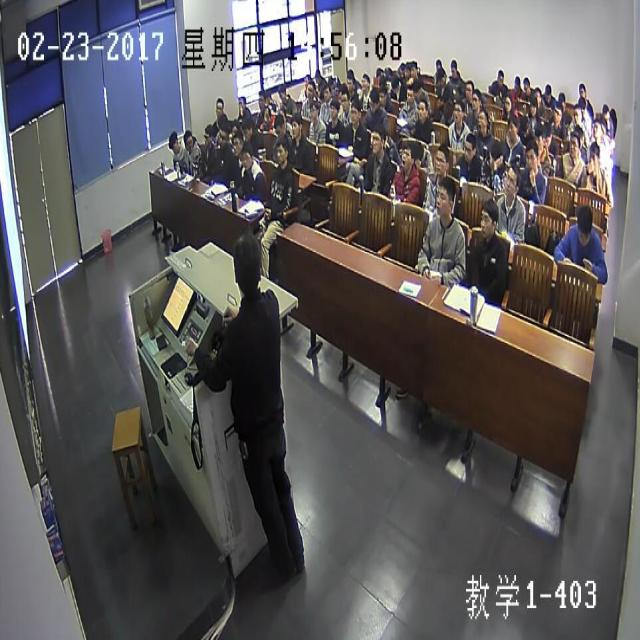no_helmet: (233, 233, 261, 292), (480, 198, 498, 236), (436, 176, 454, 213), (576, 205, 592, 242), (503, 166, 518, 195), (487, 142, 502, 167), (568, 130, 580, 159), (436, 146, 449, 172), (525, 141, 537, 169), (240, 141, 252, 168), (464, 134, 476, 160), (290, 111, 302, 136), (533, 123, 544, 150), (232, 129, 244, 153), (400, 144, 412, 167), (276, 138, 287, 162), (182, 126, 193, 148), (373, 129, 384, 151), (347, 103, 359, 123), (508, 115, 518, 138), (542, 123, 552, 146), (410, 142, 422, 161), (374, 125, 387, 142), (168, 130, 178, 152), (274, 112, 284, 134), (442, 100, 452, 122), (477, 111, 487, 133), (242, 120, 254, 138), (369, 90, 379, 111), (589, 142, 599, 163), (217, 123, 228, 142), (204, 123, 214, 143), (418, 100, 428, 120), (340, 90, 350, 109), (453, 103, 463, 122), (471, 89, 480, 110), (308, 100, 318, 118), (436, 66, 446, 84), (573, 126, 583, 144), (261, 104, 270, 123), (449, 58, 458, 77), (329, 100, 338, 118), (520, 117, 529, 135), (346, 70, 354, 90), (390, 76, 400, 92), (554, 103, 562, 123), (557, 91, 565, 111), (573, 104, 581, 124), (230, 120, 239, 137), (257, 92, 266, 109), (305, 80, 314, 97), (413, 78, 421, 97), (360, 73, 369, 89), (378, 85, 386, 103), (409, 58, 417, 76), (593, 118, 601, 136), (278, 104, 286, 121), (403, 60, 411, 77), (465, 81, 473, 98), (533, 86, 541, 103), (529, 96, 536, 115), (278, 82, 286, 98), (322, 83, 330, 99), (578, 83, 586, 99), (578, 96, 586, 112), (216, 97, 223, 115), (406, 86, 413, 104), (544, 84, 551, 102), (238, 96, 246, 111), (304, 73, 311, 89), (497, 68, 503, 85), (379, 76, 386, 90), (504, 95, 510, 110), (514, 76, 520, 91), (523, 76, 529, 91), (314, 68, 320, 82), (609, 106, 616, 118), (435, 58, 441, 71), (602, 104, 608, 117), (264, 90, 270, 102), (399, 62, 405, 74), (376, 67, 383, 77), (328, 76, 334, 86)
